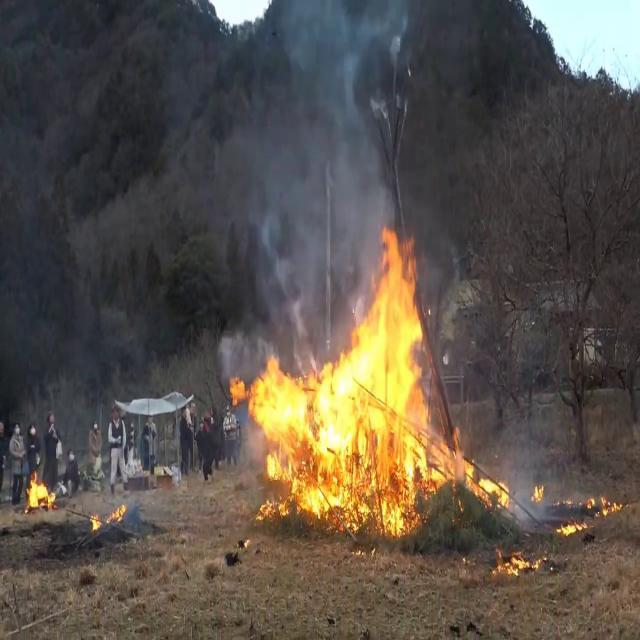Fire: (232, 222, 447, 534), (432, 414, 510, 509), (556, 486, 624, 538), (90, 497, 128, 535), (494, 548, 542, 576), (24, 472, 56, 511)
Smoke: (194, 0, 409, 266)
